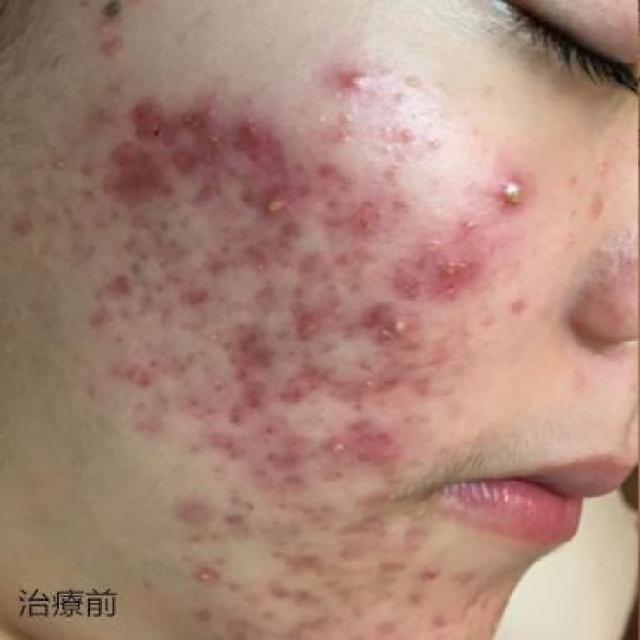dark spot: (116, 89, 230, 146), (100, 132, 173, 220)
papules: (330, 54, 379, 104)
pustules: (481, 170, 546, 216), (315, 424, 367, 468), (375, 306, 422, 354), (253, 178, 299, 224)
